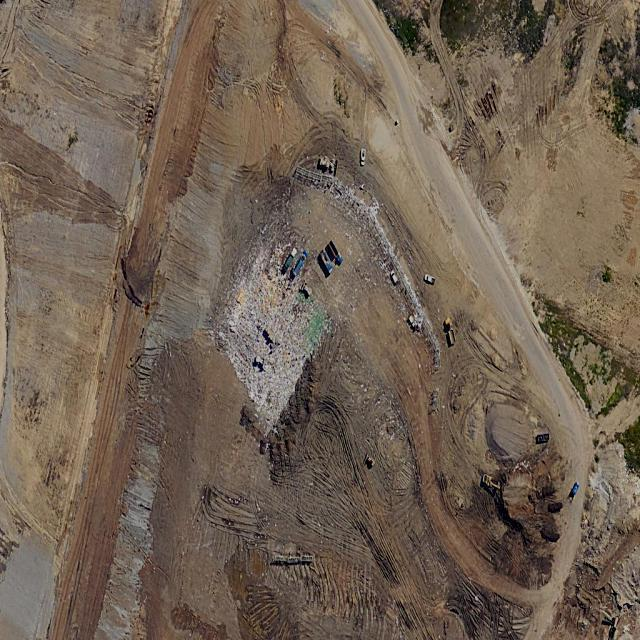dump_site: (175, 214, 353, 449)
